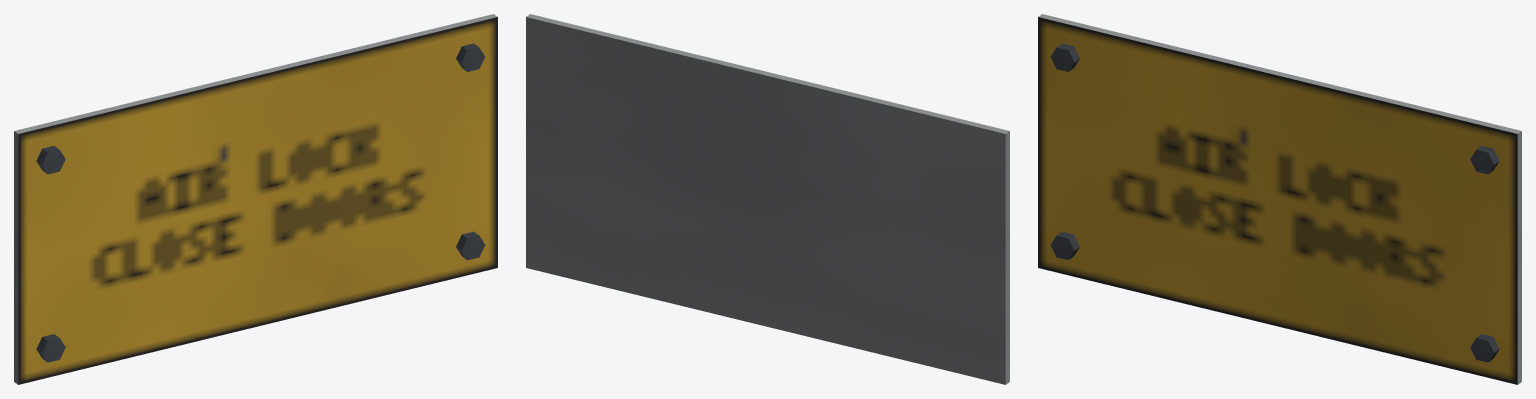
File: sign_bunker_air.glb
The picture shows the model from 3 angles, left to right: view 1: azimuth 30°, elevation 25°; view 2: azimuth 150°, elevation 25°; view 3: azimuth 330°, elevation 25°; orthographic projection.
Visible parts, largest first — view 1: sign_bunker_air; view 2: sign_bunker_air; view 3: sign_bunker_air.
Boxes of the visible parts, x1,y1,x2,y2 form: sign_bunker_air: (14, 14, 497, 384); sign_bunker_air: (526, 14, 1009, 384); sign_bunker_air: (1038, 14, 1521, 384).
Bounding box in the file's own units: 0.4 × 0.2 × 0.014.
1 material, 1 textured.
